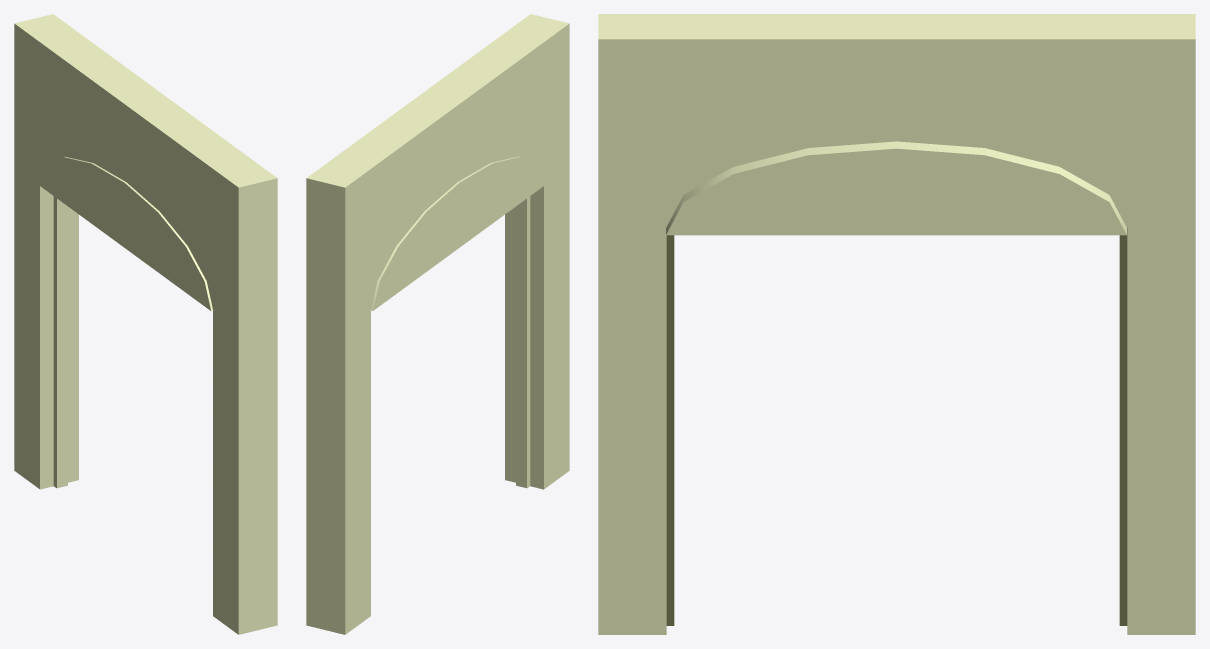
The model's file is SM_DoorWall.fbx.
3 views of the same model, side by side, from view 1: azimuth 30°, elevation 25°; view 2: azimuth 150°, elevation 25°; view 3: azimuth 270°, elevation 25° (orthographic). The views are drawn at different scales.
Visible parts, largest first — view 1: SM_Doorpost1; view 2: SM_Doorpost1; view 3: SM_Doorpost1.
Boxes of the visible parts, <box> form: SM_Doorpost1: <box>14,14,277,634</box>; SM_Doorpost1: <box>306,14,569,634</box>; SM_Doorpost1: <box>598,14,1195,634</box>.
Bounding box in the file's own units: 0.00267 × 0.022 × 0.02.
